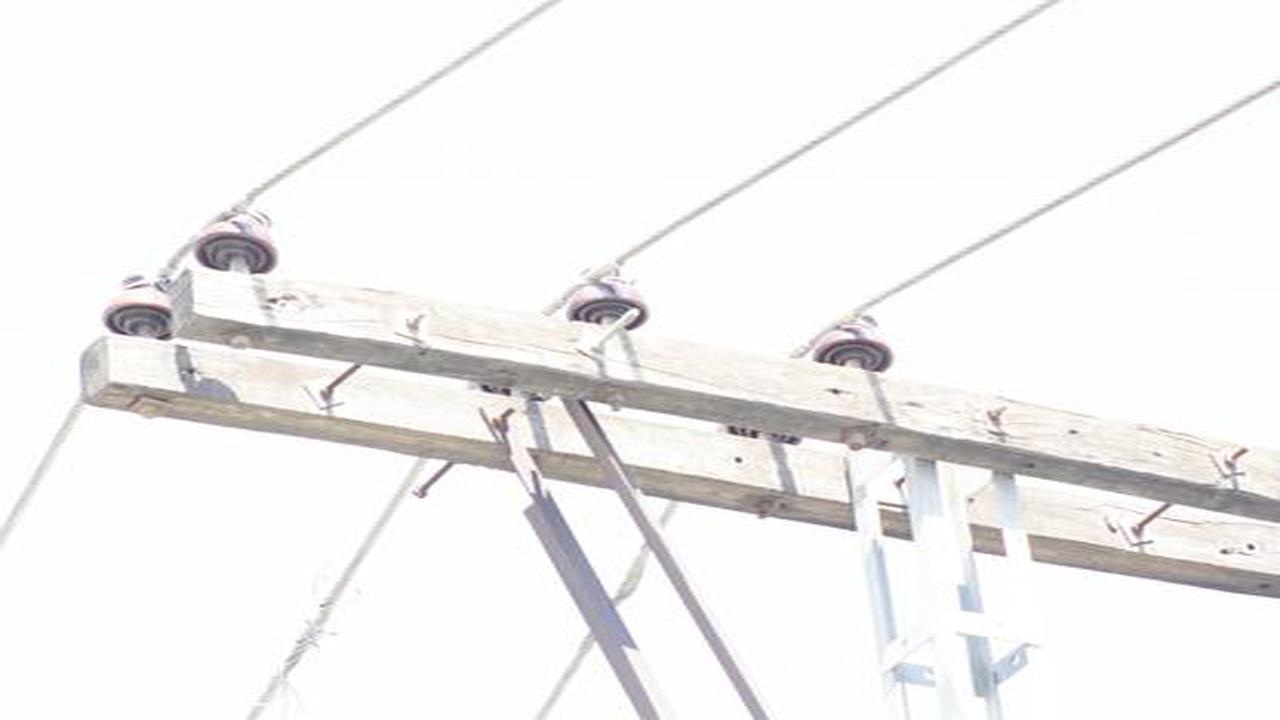insulator_pin: (191, 196, 281, 277), (811, 303, 898, 372), (563, 264, 651, 329), (98, 264, 176, 337)
